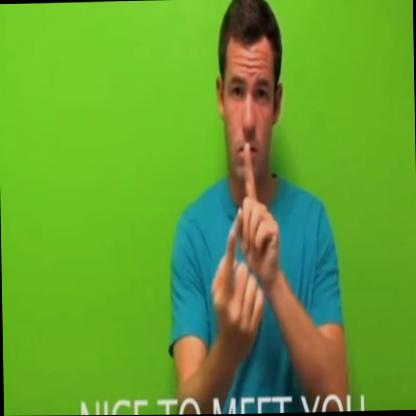NiceToMeetYou: (205, 139, 304, 374)
